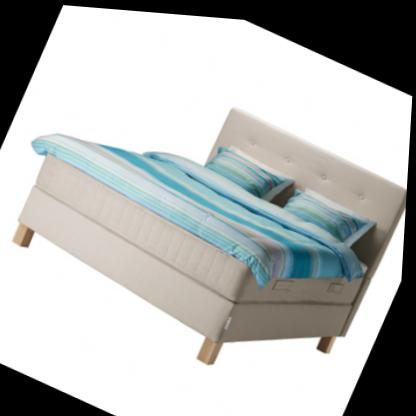Bed: (0, 32, 415, 410)
